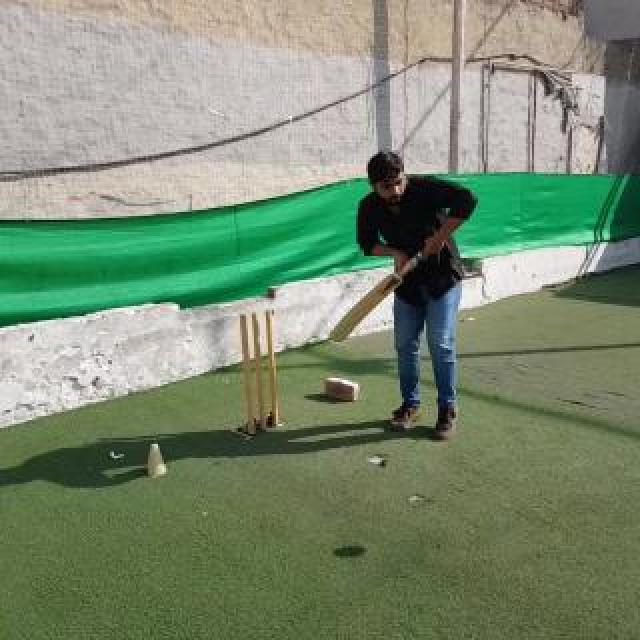bat: (329, 252, 423, 342)
